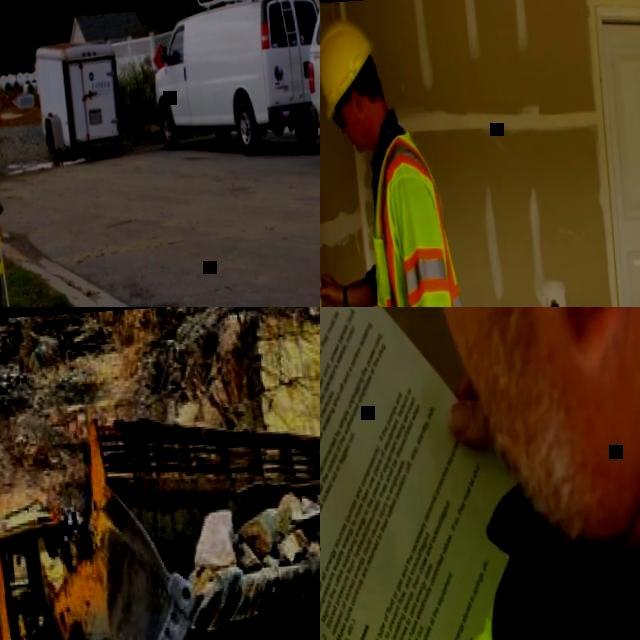helmet: (320, 19, 381, 119)
machinery: (0, 377, 320, 640)
no_mask: (422, 307, 640, 559)
person: (380, 307, 640, 640), (320, 10, 492, 307)
vehicle: (145, 0, 320, 159)
vest: (361, 128, 475, 307), (413, 579, 640, 640)
